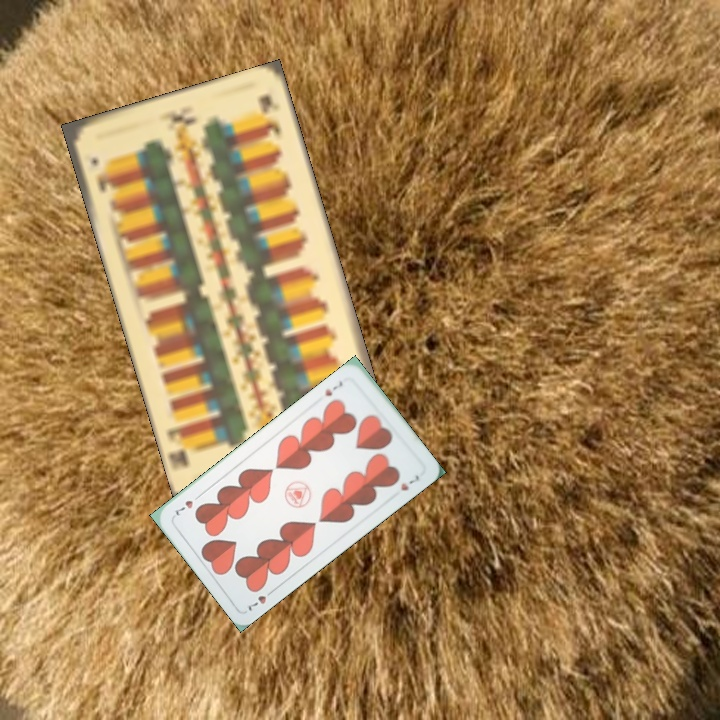E10: (86, 153, 116, 196)
H7: (244, 585, 278, 614), (321, 377, 346, 399)
